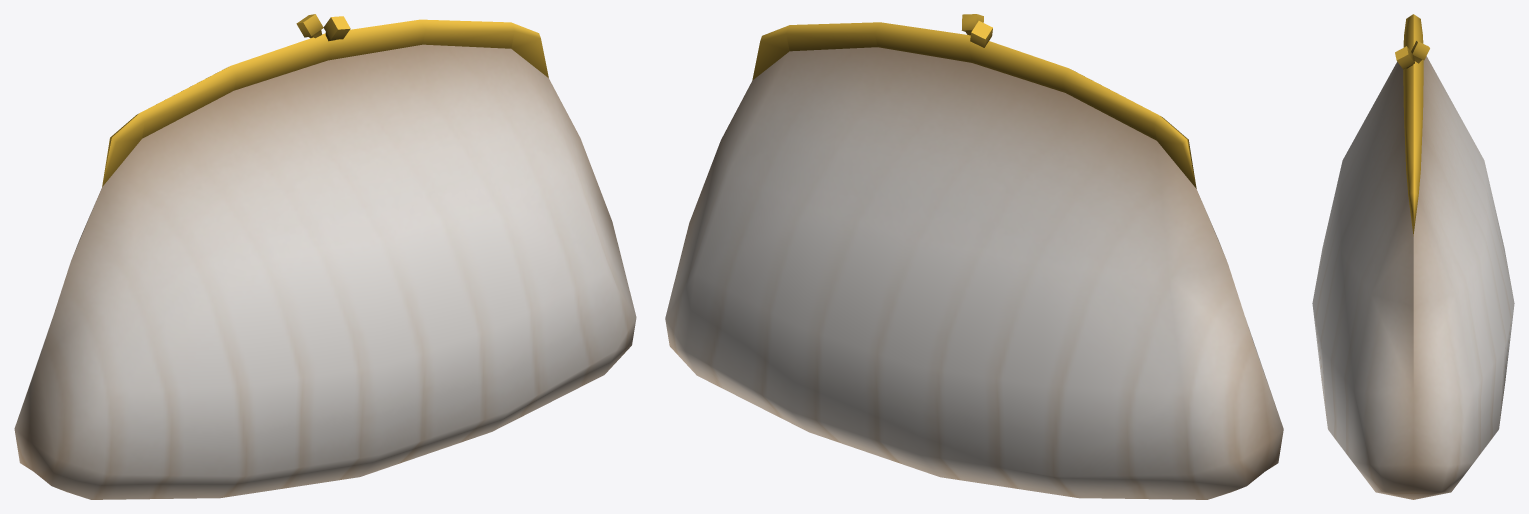
Rendered from pouch.fbx.
3 renders of one model, left to right at view 1: azimuth 30°, elevation 25°; view 2: azimuth 150°, elevation 25°; view 3: azimuth 270°, elevation 25°, orthographic. The views are drawn at different scales.
Parts seen in each view (by area): view 1: pouch; view 2: pouch; view 3: pouch.
Part boxes in pixels (x1,y1,x2,y2): pouch: (14, 14, 636, 499); pouch: (665, 14, 1283, 499); pouch: (1312, 14, 1514, 499).
Size of the model in its own units: 7.33 by 5.26 by 2.57.
Materials: 1 (1 with a texture image).
